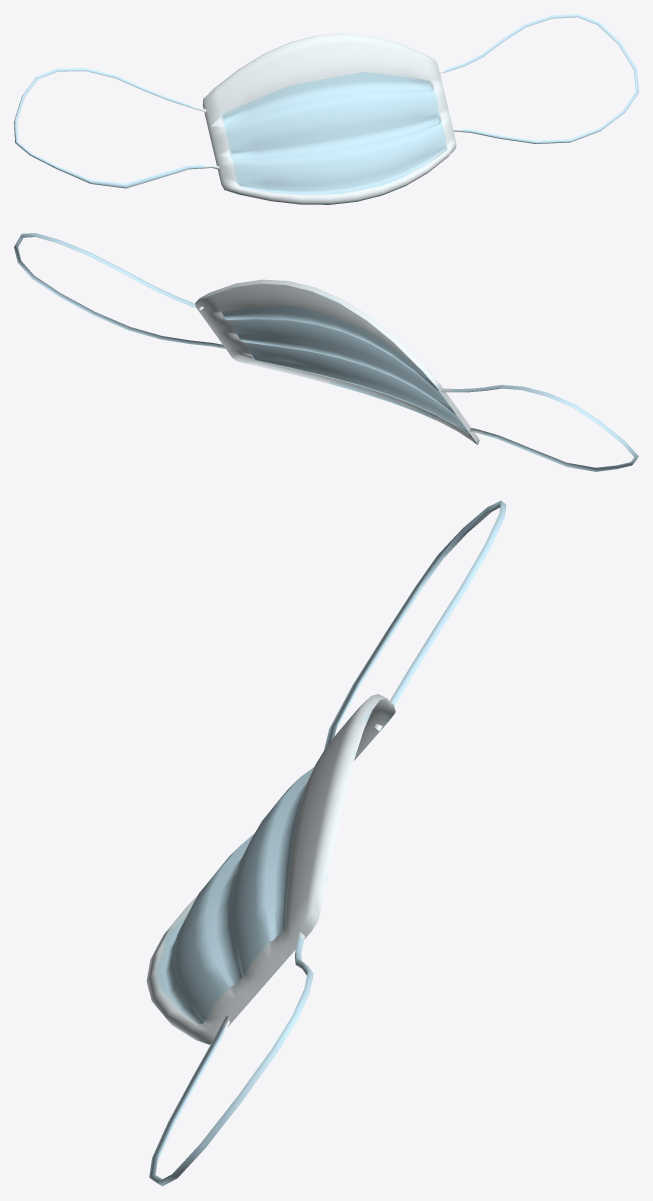
File: maskmask.glb
3 renders of one model, top to bottom at view 1: azimuth 30°, elevation 25°; view 2: azimuth 150°, elevation 25°; view 3: azimuth 270°, elevation 25°, orthographic. The views are drawn at different scales.
Parts seen in each view (by area): view 1: Plane002; view 2: Plane002; view 3: Plane002.
Boxes of the visible parts, <box> form: Plane002: <box>14,14,638,204</box>; Plane002: <box>14,233,638,471</box>; Plane002: <box>146,500,506,1186</box>.
Bounding box in the file's own units: 1.97 × 0.4252 × 0.5462.
1 material, 1 textured.
